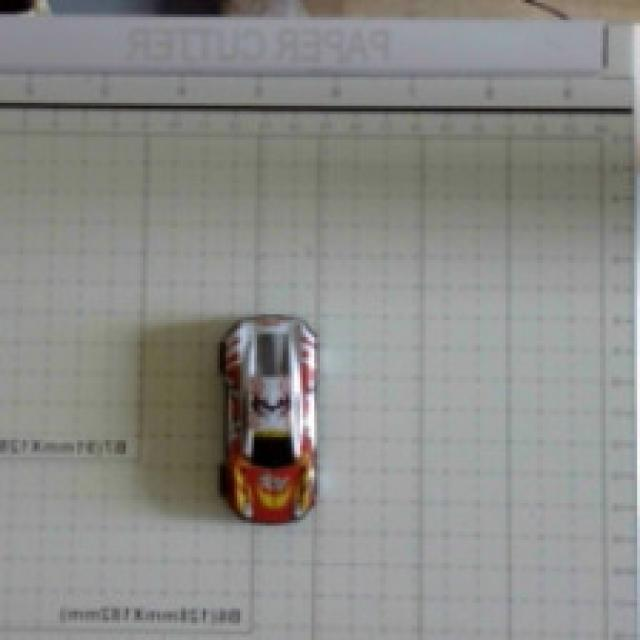Red Car: (159, 286, 389, 563)
